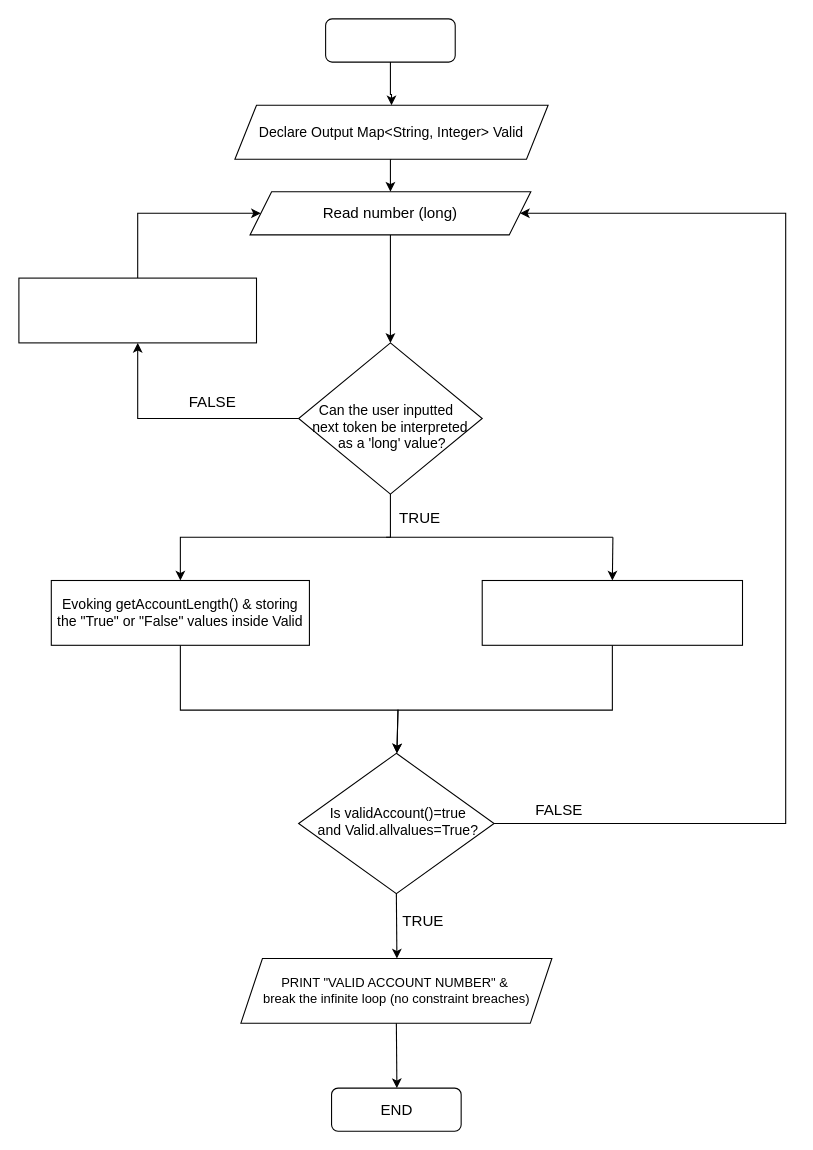
The diagram is 813 pixels wide and 1150 high, and some of its shapes have lost their labels. The centre of each missing label's shape, as x and y in pixels:
Evoking getAccountDigits() & Valid.put(value=false): the point at 137,310
Evoking getAccountSumTotal() & storing the "True" or "False" values inside Valid: the point at 611,612
START: the point at 390,40
